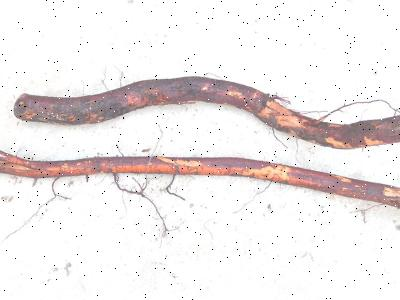Root: (14, 77, 399, 149), (0, 151, 399, 207)
